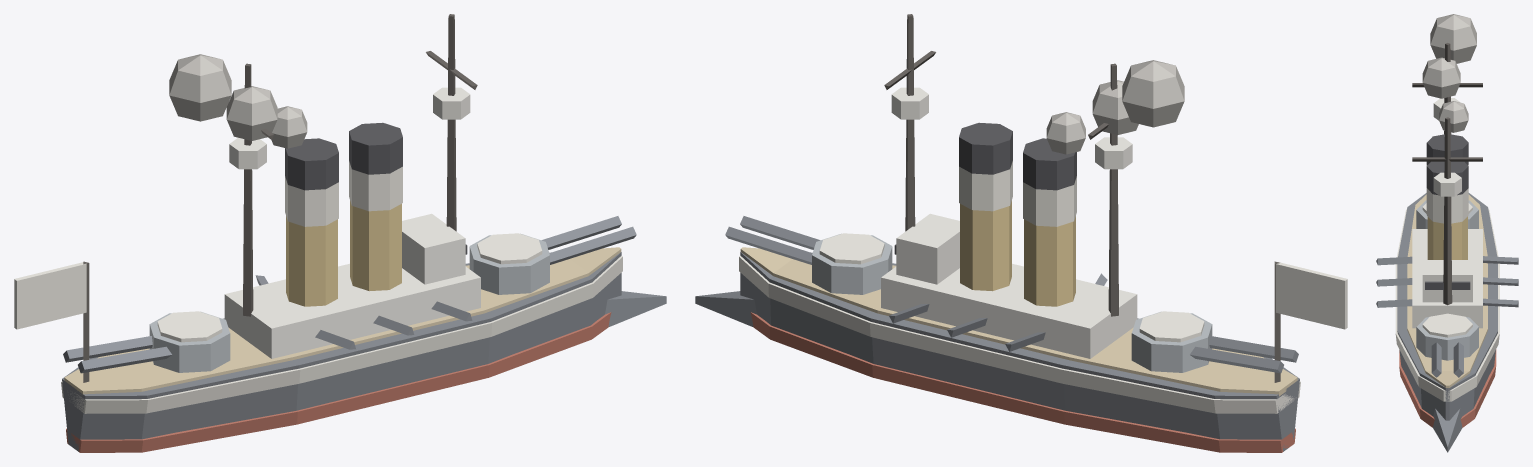
File: fleet.glb
The picture shows the model from 3 angles, left to right: view 1: azimuth 30°, elevation 25°; view 2: azimuth 150°, elevation 25°; view 3: azimuth 270°, elevation 25°; orthographic projection. The views are drawn at different scales.
Visible parts, largest first — view 1: industrial_fleet; view 2: industrial_fleet; view 3: industrial_fleet.
Boxes of the visible parts, <box> form: industrial_fleet: <box>14,14,666,452</box>; industrial_fleet: <box>695,14,1347,452</box>; industrial_fleet: <box>1376,14,1518,452</box>.
Size of the model in its own units: 0.9995 by 0.5252 by 0.2526.
